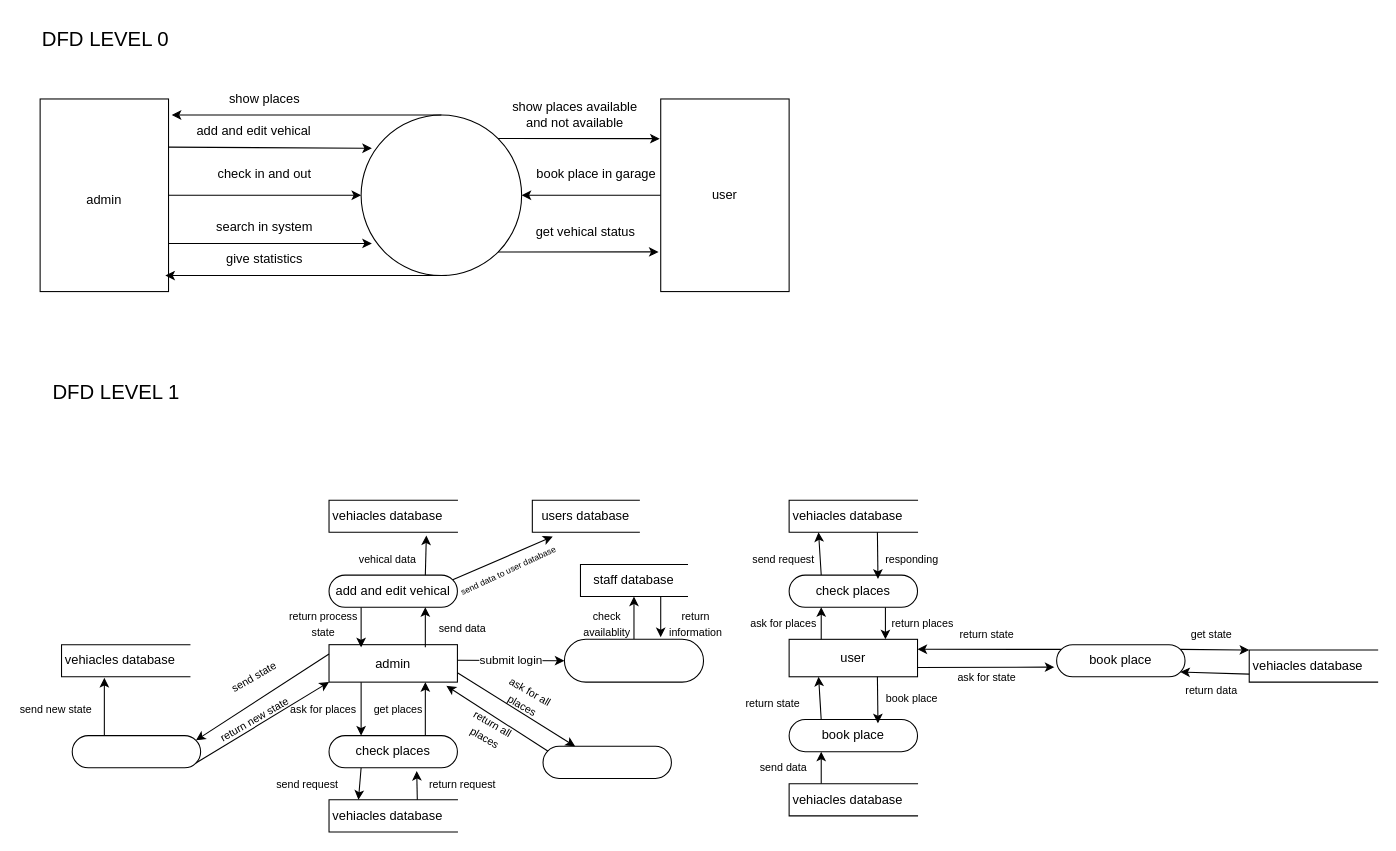
Some shapes in this 1396 by 851 pixel diagram are drawn without their labels. The shapes that lost their labels are listed below. From the top down, each one's centre as x and y in pixels, then its label:
At point (441, 195): "garage system".
At point (633, 660): "Login".
At point (136, 751): "change state".
At point (606, 761): "get all places".
